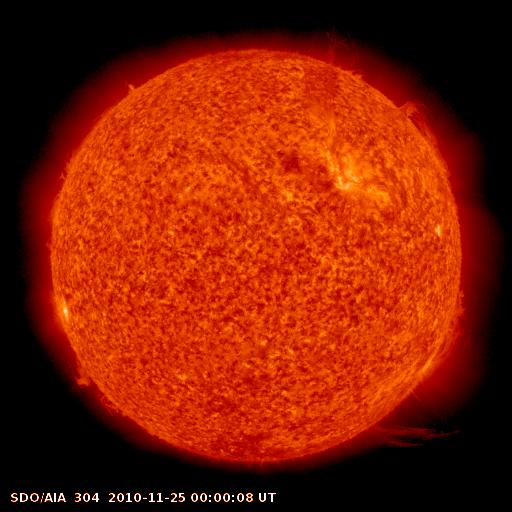prominence: (351, 408, 481, 456), (396, 95, 466, 184), (66, 351, 124, 425), (41, 143, 83, 231), (318, 21, 375, 85), (439, 281, 477, 343)
